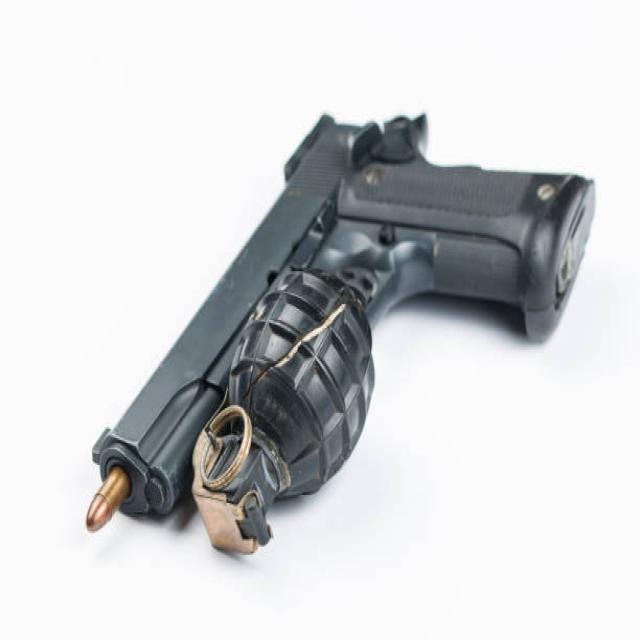grenade: (193, 252, 386, 573)
